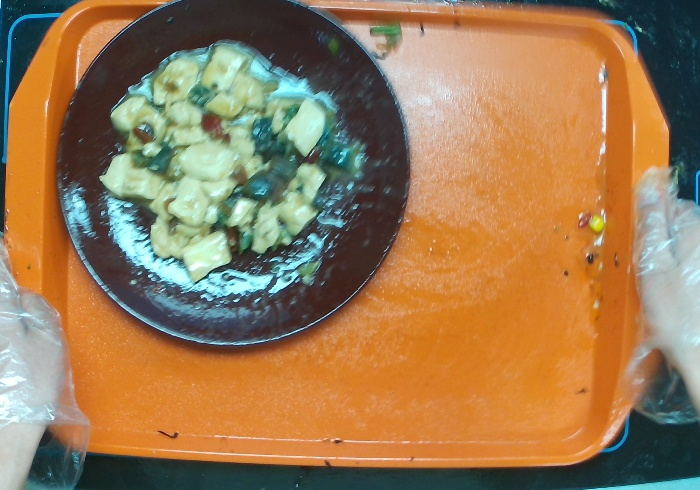HZYJPL-Ka_Fei_Yuan_Pan: (55, 1, 414, 348)
